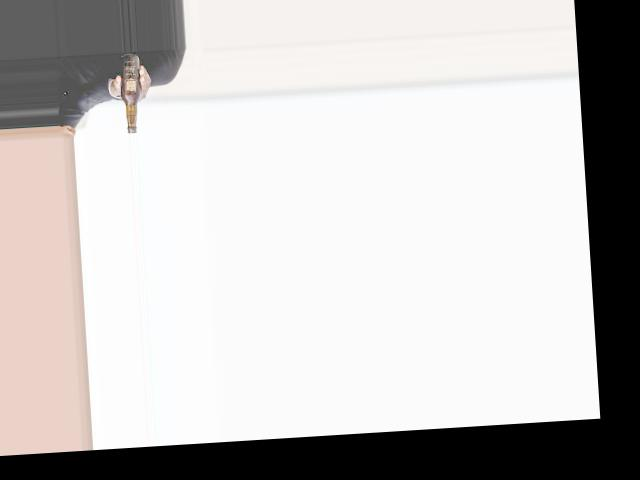beer: (119, 53, 144, 133)
